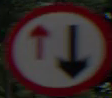Two way: (21, 12, 105, 77)
